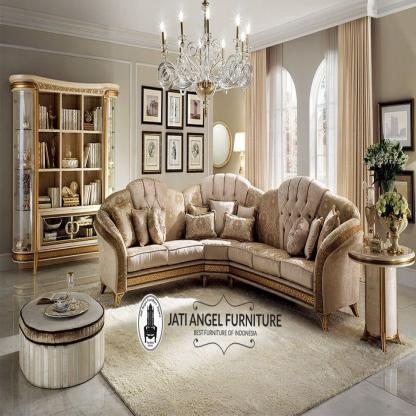sova: (83, 164, 363, 335)
